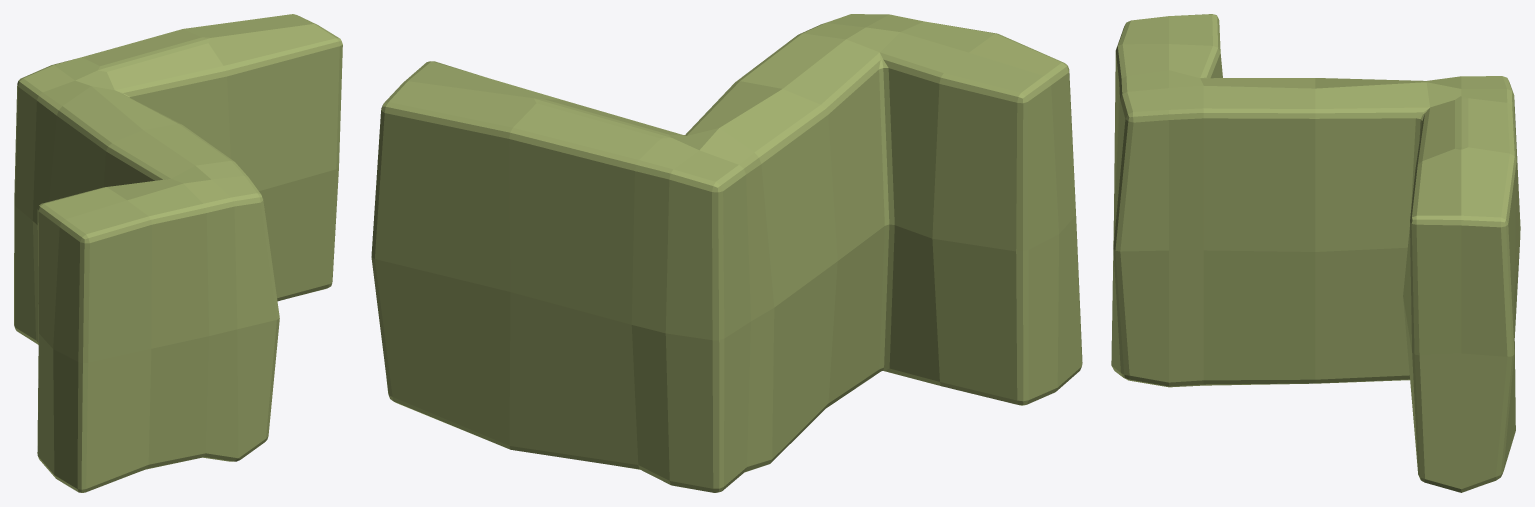
Rendered from Wall piece 5.fbx.
3 renders of one model, left to right at view 1: azimuth 30°, elevation 25°; view 2: azimuth 150°, elevation 25°; view 3: azimuth 270°, elevation 25°, orthographic. The views are drawn at different scales.
Visible parts, largest first — view 1: wall piece 5O; view 2: wall piece 5O; view 3: wall piece 5O.
Part boxes in pixels (left/top/right/bottom): wall piece 5O: left=14, top=14, right=342, bottom=492; wall piece 5O: left=371, top=14, right=1082, bottom=492; wall piece 5O: left=1111, top=14, right=1520, bottom=492.
Size of the model in its own units: 719 by 588 by 476.
